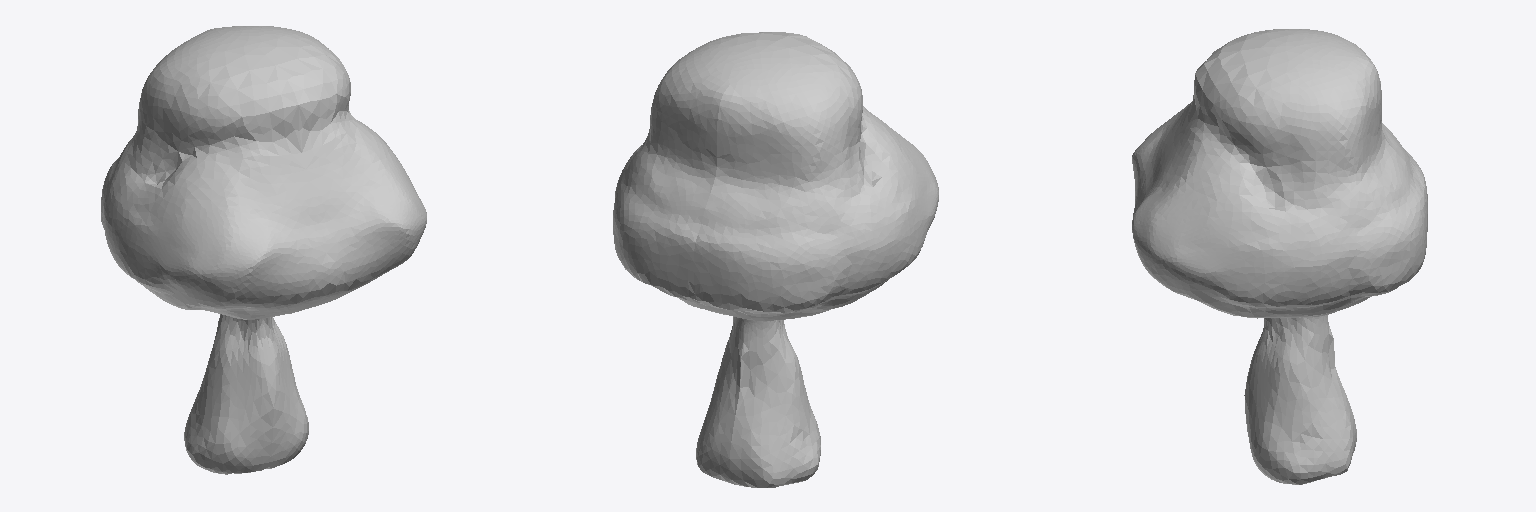
The model's file is tree_model_color.obj.
The picture shows the model from 3 angles: view 1: azimuth 30°, elevation 25°; view 2: azimuth 150°, elevation 25°; view 3: azimuth 270°, elevation 25°; orthographic projection.
Size of the model in its own units: 1.34 by 1.99 by 1.27.